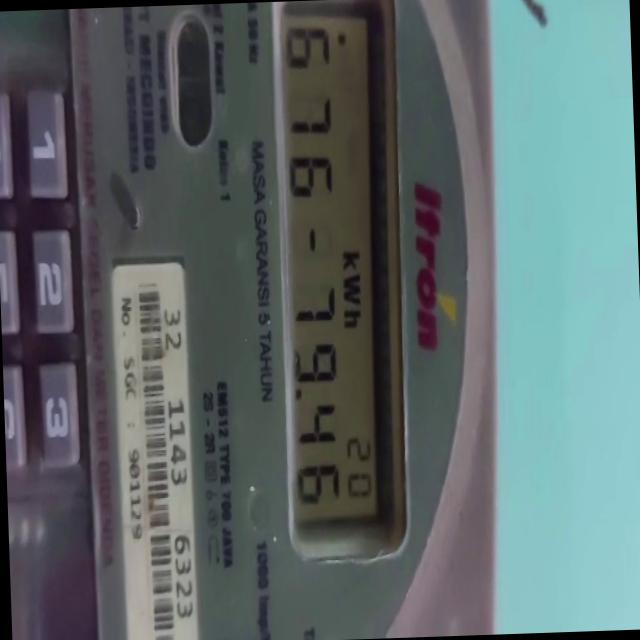LCD: (272, 0, 407, 543)
